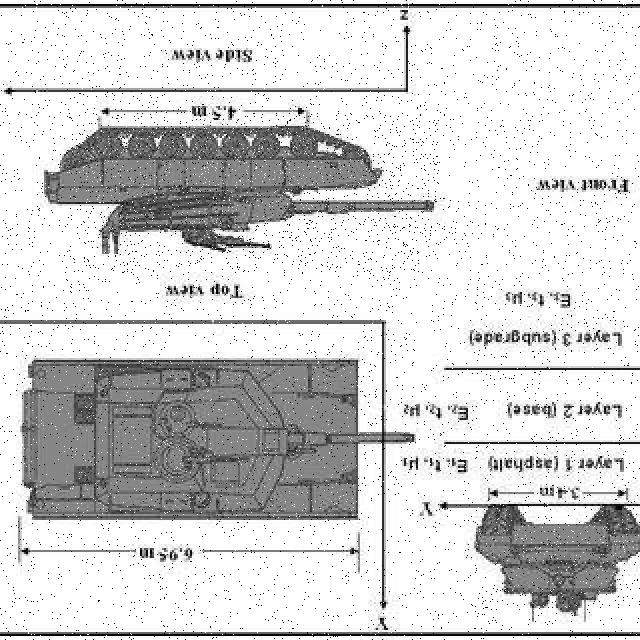MIL_MBT: (67, 113, 439, 273), (72, 356, 368, 528), (472, 506, 636, 622)
